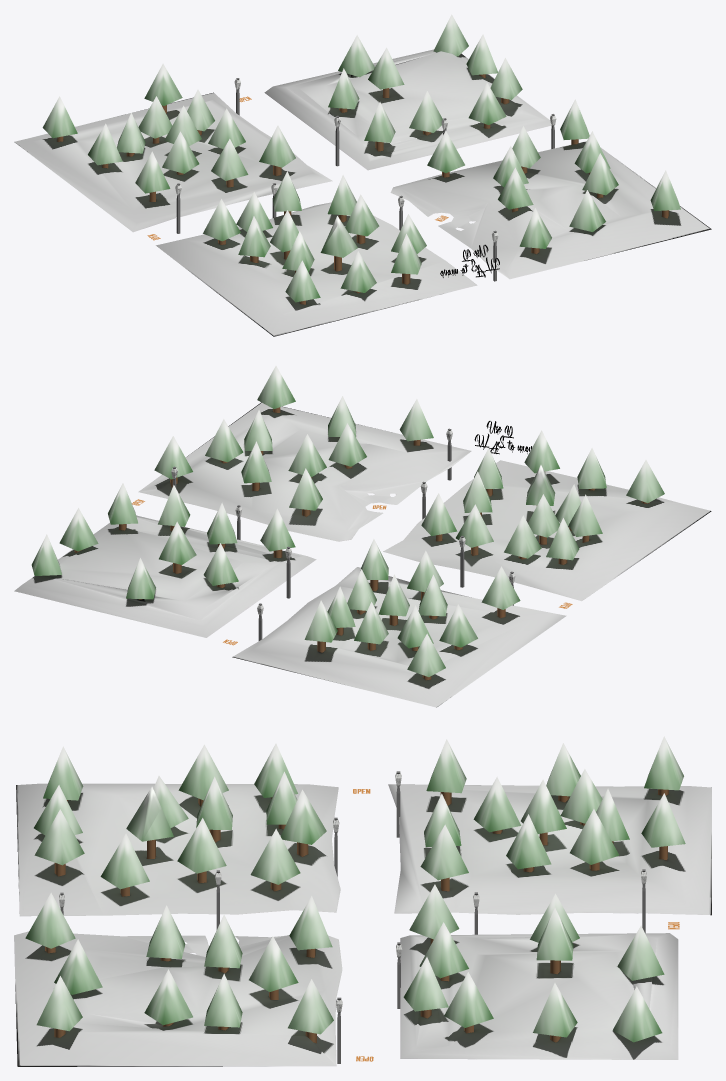
The model's file is pol.glb.
3 renders of one model, top to bottom at view 1: azimuth 30°, elevation 25°; view 2: azimuth 150°, elevation 25°; view 3: azimuth 270°, elevation 25°, orthographic. The views are drawn at different scales.
Visible parts, largest first — view 1: сугроб6, сугроб5, сугроб4, сугроб3, Конус.021, Конус.016, Конус.026, Конус.012, Конус.010, Конус.036, Конус.017, Конус.031 (+36 smaller); view 2: сугроб6, сугроб5, сугроб4, сугроб3, Конус.004, Конус.028, Конус.023, Конус.029, Конус.032, Конус.027, Конус.044, Конус.020 (+35 smaller); view 3: сугроб6, сугроб4, сугроб5, сугроб3, Конус.019, Конус.024, Конус.025, Конус.034, Конус.005, Конус.006, Конус.008, Конус.040 (+36 smaller).
Boxes of the visible parts, x1,y1,x2,y2 form: сугроб6: (390, 141, 711, 279); сугроб5: (156, 202, 477, 336); сугроб4: (14, 92, 332, 232); сугроб3: (264, 49, 551, 170); Конус.021: (427, 130, 464, 172); Конус.016: (468, 82, 506, 124); Конус.026: (203, 199, 240, 241); Конус.012: (162, 131, 199, 173); Конус.010: (320, 216, 357, 257); Конус.036: (211, 139, 248, 180); Конус.017: (338, 35, 374, 77); Конус.031: (259, 125, 295, 167); сугроб6: (138, 402, 471, 541); сугроб5: (383, 460, 711, 600); сугроб4: (232, 567, 566, 707); сугроб3: (14, 515, 316, 637); Конус.004: (59, 508, 98, 551); Конус.028: (481, 566, 520, 609); Конус.023: (257, 366, 295, 408); Конус.029: (407, 633, 445, 676); Конус.032: (439, 604, 477, 647); Конус.027: (626, 460, 664, 502); Конус.044: (205, 419, 243, 462); Конус.020: (328, 423, 366, 466); сугроб6: (14, 931, 342, 1066); сугроб4: (388, 784, 711, 915); сугроб5: (16, 783, 340, 916); сугроб3: (400, 933, 678, 1059); Конус.019: (25, 892, 75, 948); Конус.024: (34, 809, 84, 865); Конус.025: (250, 828, 300, 884); Конус.034: (570, 809, 619, 864); Конус.005: (612, 986, 662, 1042); Конус.006: (444, 972, 493, 1027); Конус.008: (249, 936, 298, 991); Конус.040: (177, 818, 226, 873).
Size of what is drawn, in the model's own units: 96.24 by 16.19 by 101.
Materials: 7 (3 with a texture image).
